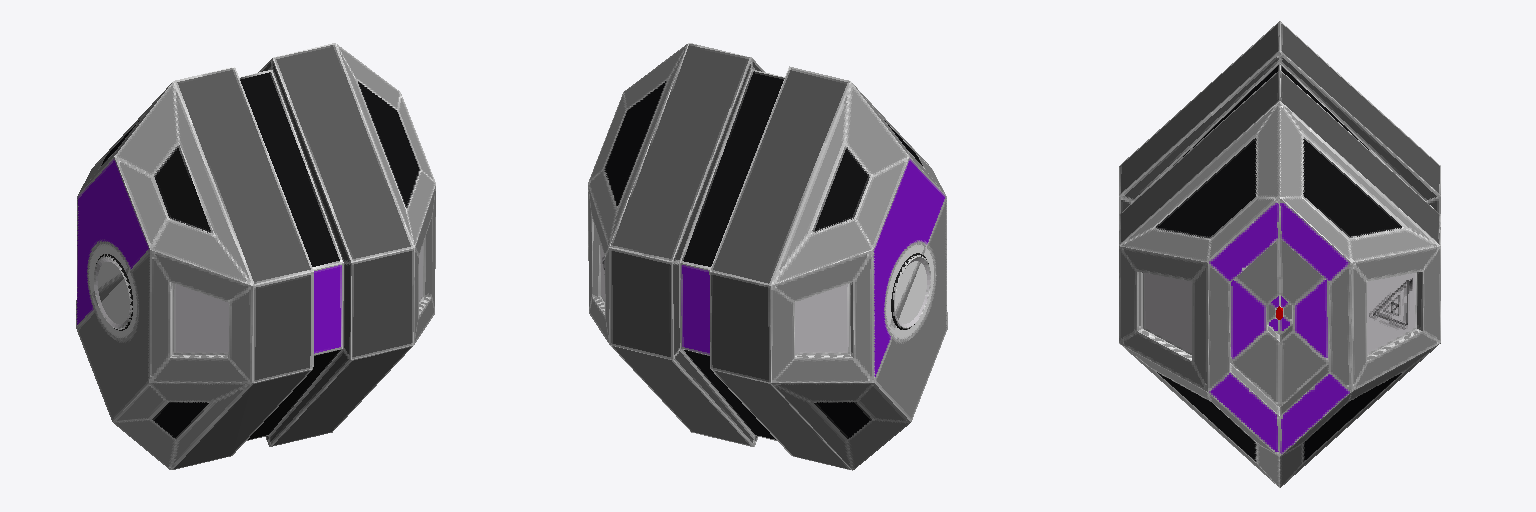
3 views of the same model, side by side, from view 1: azimuth 30°, elevation 25°; view 2: azimuth 150°, elevation 25°; view 3: azimuth 270°, elevation 25° (orthographic).
Visible parts, largest first — view 1: drone droneGroup; view 2: drone droneGroup; view 3: drone droneGroup.
Part boxes in pixels (bbox=[...]): drone droneGroup: bbox=[76, 43, 435, 469]; drone droneGroup: bbox=[588, 43, 947, 470]; drone droneGroup: bbox=[1119, 21, 1440, 487].
Size of the model in its own units: 1.45 by 1.86 by 1.4.
Materials: 1 (1 with a texture image).